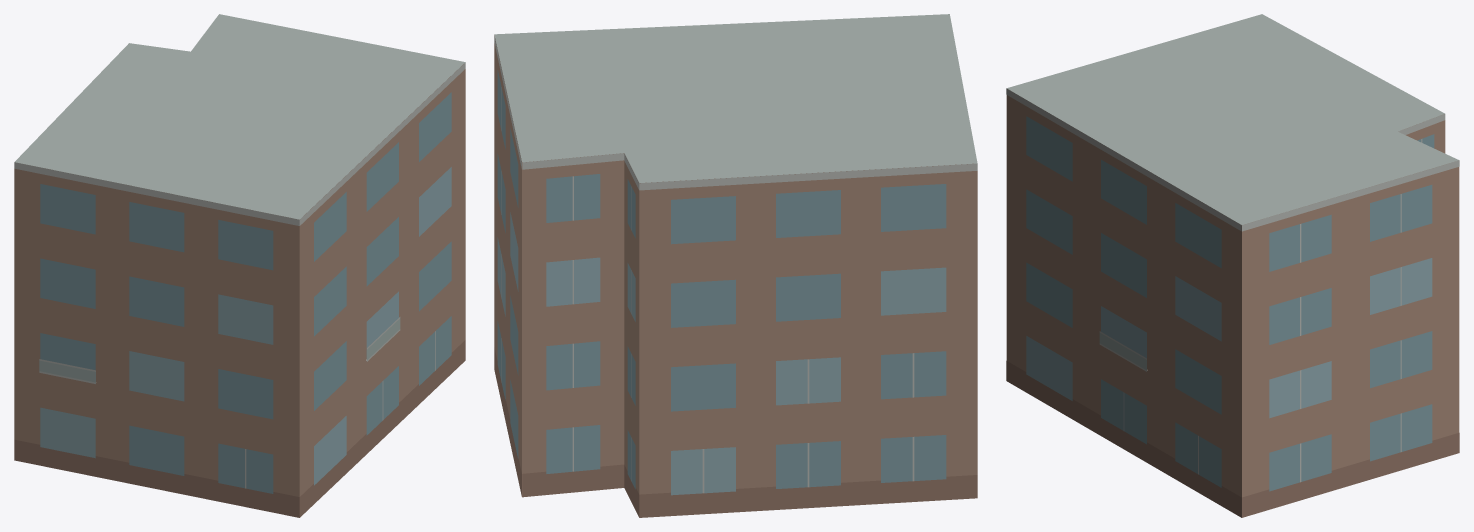
File: survey-upis-32969087.glb
3 views of the same model, side by side, from view 1: azimuth 30°, elevation 25°; view 2: azimuth 150°, elevation 25°; view 3: azimuth 270°, elevation 25° (orthographic). The views are drawn at different scales.
Parts seen in each view (by area): view 1: survey-upis-32969087.tmp; view 2: survey-upis-32969087.tmp; view 3: survey-upis-32969087.tmp.
Boxes of the visible parts, x1=… form: survey-upis-32969087.tmp: x1=14, y1=14, x2=465, y2=517; survey-upis-32969087.tmp: x1=494, y1=14, x2=977, y2=517; survey-upis-32969087.tmp: x1=1006, y1=14, x2=1459, y2=517.
Bounding box in the file's own units: 17.26 × 11.15 × 15.65.
